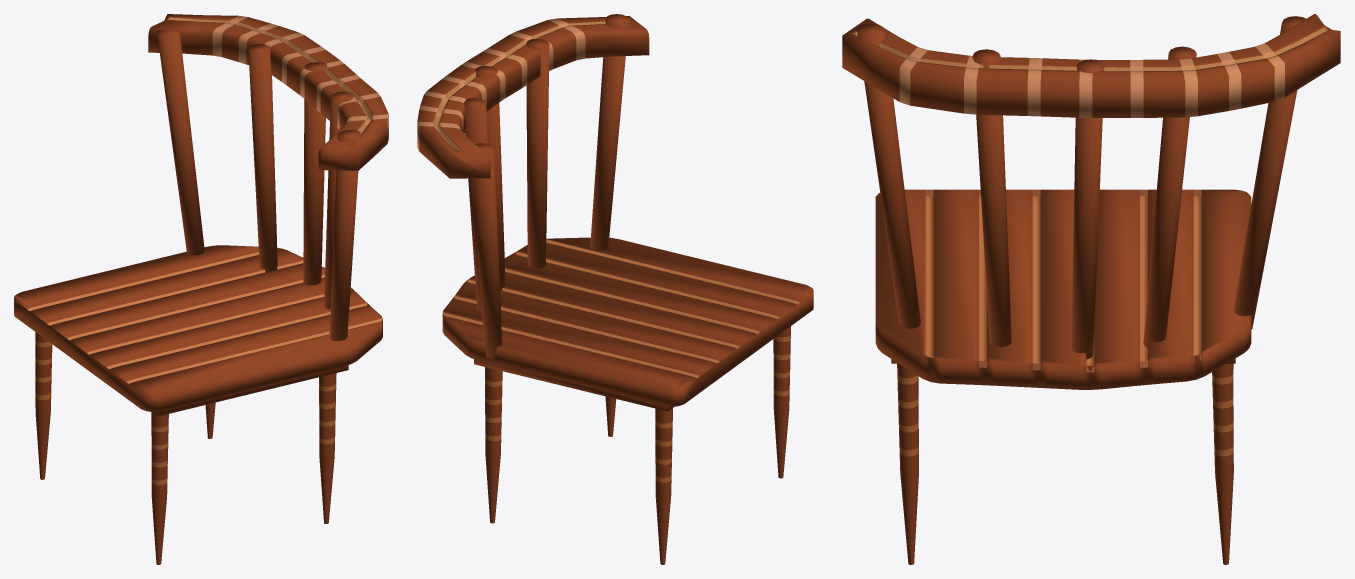
File: sandalye_tum.fbx
The picture shows the model from 3 angles, left to right: view 1: azimuth 30°, elevation 25°; view 2: azimuth 150°, elevation 25°; view 3: azimuth 270°, elevation 25°; orthographic projection. The views are drawn at different scales.
Parts seen in each view (by area): view 1: Cylinder.006; view 2: Cylinder.006; view 3: Cylinder.006.
Boxes of the visible parts, <box> form: Cylinder.006: <box>14,14,388,564</box>; Cylinder.006: <box>417,14,813,564</box>; Cylinder.006: <box>842,14,1340,564</box>.
Bounding box in the file's own units: 119 × 165 × 139.
4 materials, 4 textured.
